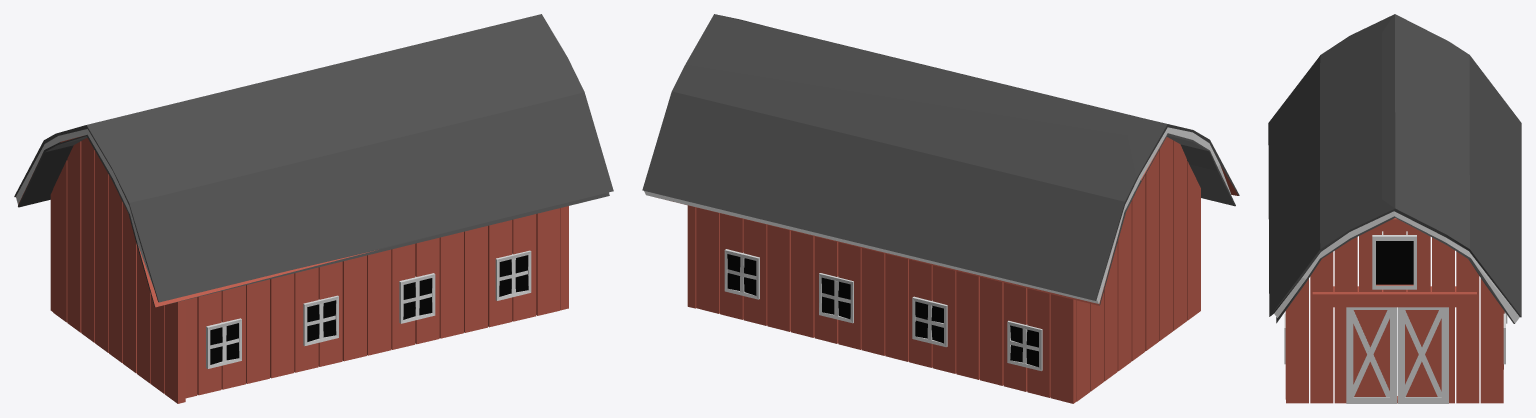
File: barn.fbx
3 views of the same model, side by side, from view 1: azimuth 30°, elevation 25°; view 2: azimuth 150°, elevation 25°; view 3: azimuth 270°, elevation 25° (orthographic). The views are drawn at different scales.
Parts seen in each view (by area): view 1: Cube.001, Cube.002; view 2: Cube.001, Cube.002; view 3: Cube.001, Cube.002, Cube.005, Cube.000.
Part boxes in pixels (<box>): Cube.001: <box>14,14,613,307</box>; Cube.002: <box>50,138,568,403</box>; Cube.001: <box>642,14,1239,305</box>; Cube.002: <box>687,137,1200,403</box>; Cube.001: <box>1268,14,1521,323</box>; Cube.002: <box>1284,218,1507,403</box>; Cube.005: <box>1346,307,1397,403</box>; Cube.000: <box>1398,307,1448,403</box>.
Bounding box in the file's own units: 887 × 448 × 488.
